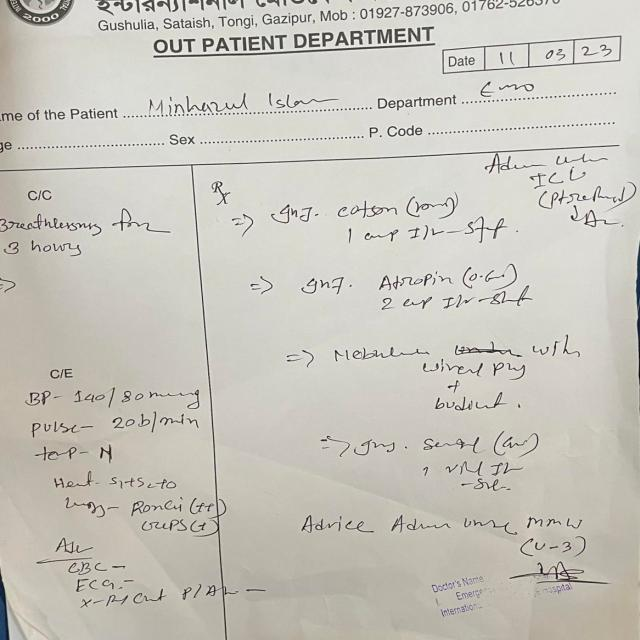Atropin: (365, 264, 455, 294)
Cotson: (330, 199, 405, 223)
Nebulization: (329, 341, 436, 362)
Sergel: (411, 431, 487, 459)
